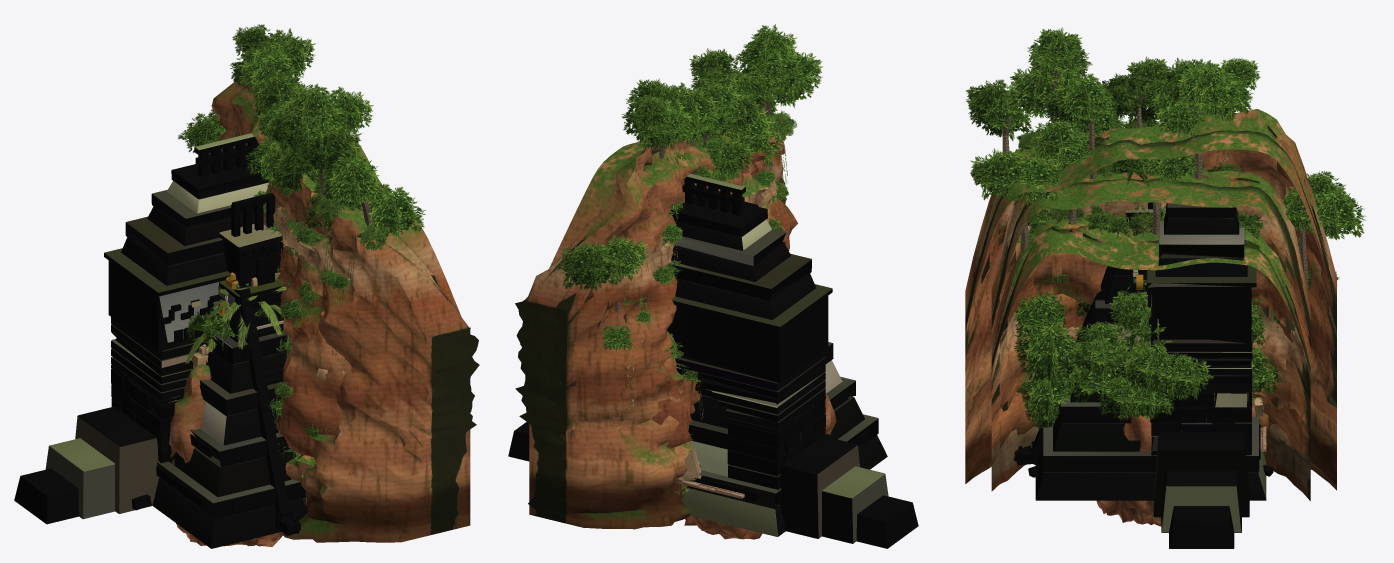
File: kit.high.glb
3 renders of one model, left to right at view 1: azimuth 30°, elevation 25°; view 2: azimuth 150°, elevation 25°; view 3: azimuth 270°, elevation 25°, orthographic. The views are drawn at different scales.
Parts seen in each view (by area): view 1: cliff_wall_2, face_gate_0, temple_0, cliff_wall_2_veg, cliff_wall_1, cliff_wall_1_veg, cliff_wall_0_veg, rock_big_0, cliff_wall_0, tree_big_1_crown, palm_2_crown; view 2: cliff_wall_2, face_gate_0, cliff_wall_2_veg, temple_0, cliff_wall_1_veg, cliff_wall_0_veg, cliff_wall_1, rock_big_0; view 3: face_gate_0, cliff_wall_2, cliff_wall_0, cliff_wall_1, temple_0, cliff_wall_2_veg, cliff_wall_0_veg, cliff_wall_1_veg, jungle_bank_2, canopy_1, jungle_bank_1, canopy_0 (+6 smaller).
Part boxes in pixels (<box>): cliff_wall_2: <box>211,73,479,542</box>; face_gate_0: <box>14,133,268,524</box>; temple_0: <box>132,193,307,548</box>; cliff_wall_2_veg: <box>178,24,389,536</box>; cliff_wall_1: <box>263,182,354,505</box>; cliff_wall_1_veg: <box>234,28,373,451</box>; cliff_wall_0_veg: <box>245,137,425,436</box>; rock_big_0: <box>169,365,282,546</box>; cliff_wall_0: <box>283,245,344,481</box>; tree_big_1_crown: <box>185,305,291,358</box>; palm_2_crown: <box>203,286,291,349</box>; cliff_wall_2: <box>515,126,797,529</box>; face_gate_0: <box>508,173,918,548</box>; cliff_wall_2_veg: <box>555,24,823,410</box>; temple_0: <box>681,201,887,536</box>; cliff_wall_1_veg: <box>622,48,783,419</box>; cliff_wall_0_veg: <box>621,101,782,442</box>; cliff_wall_1: <box>652,159,784,447</box>; rock_big_0: <box>691,393,836,530</box>; face_gate_0: <box>1146,112,1256,548</box>; cliff_wall_2: <box>965,109,1336,490</box>; cliff_wall_0: <box>991,215,1310,500</box>; cliff_wall_1: <box>991,167,1310,471</box>; temple_0: <box>1013,202,1273,500</box>; cliff_wall_2_veg: <box>966,27,1365,289</box>; cliff_wall_0_veg: <box>970,113,1299,374</box>; cliff_wall_1_veg: <box>1044,57,1253,214</box>; jungle_bank_2: <box>1013,291,1279,432</box>; canopy_1: <box>1097,302,1186,421</box>; jungle_bank_1: <box>1019,321,1254,428</box>; canopy_0: <box>1123,324,1213,419</box>.
Size of the model in its own units: 31.79 by 36.83 by 29.97.
Materials: 14 (14 with a texture image).
